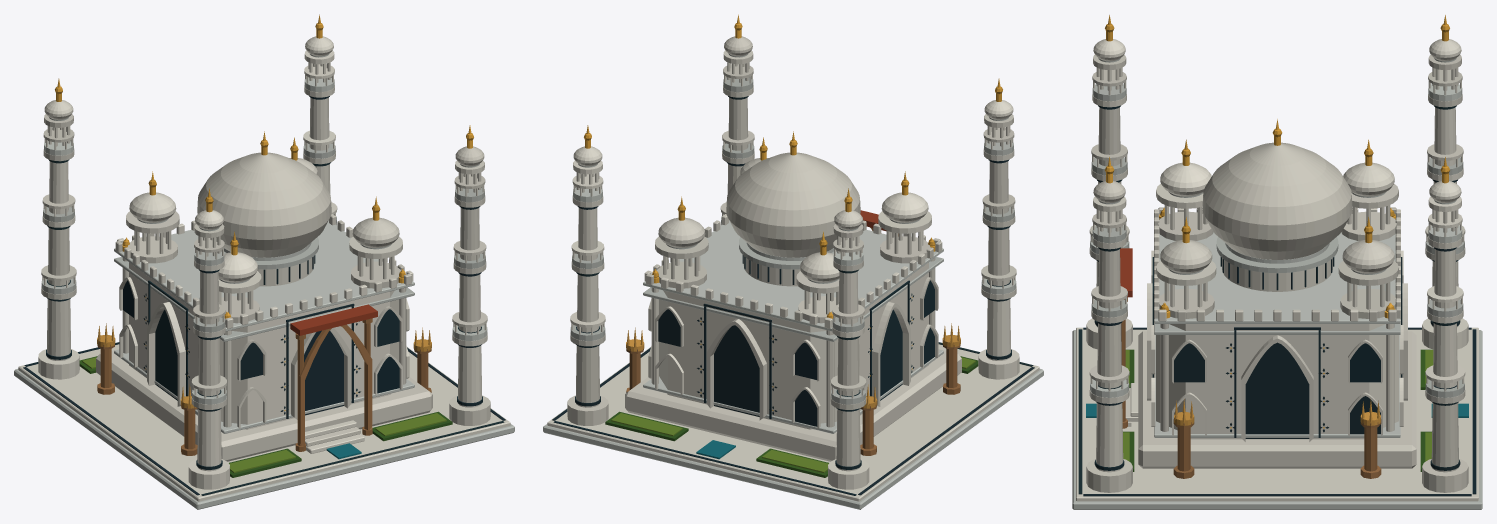
3 renders of one model, left to right at view 1: azimuth 30°, elevation 25°; view 2: azimuth 150°, elevation 25°; view 3: azimuth 270°, elevation 25°, orthographic. The views are drawn at different scales.
Visible parts, largest first — view 1: fort_L3_0, fort_L3_1; view 2: fort_L3_0, fort_L3_1; view 3: fort_L3_0, fort_L3_1.
Boxes of the visible parts, x1,y1,x2,y2 form: fort_L3_0: (14,23,514,509); fort_L3_1: (56,14,472,410); fort_L3_0: (543,23,1043,509); fort_L3_1: (585,14,1001,410); fort_L3_0: (1072,24,1482,509); fort_L3_1: (1106,15,1448,428).
Size of the model in its own units: 7.6 by 6.93 by 7.6.
